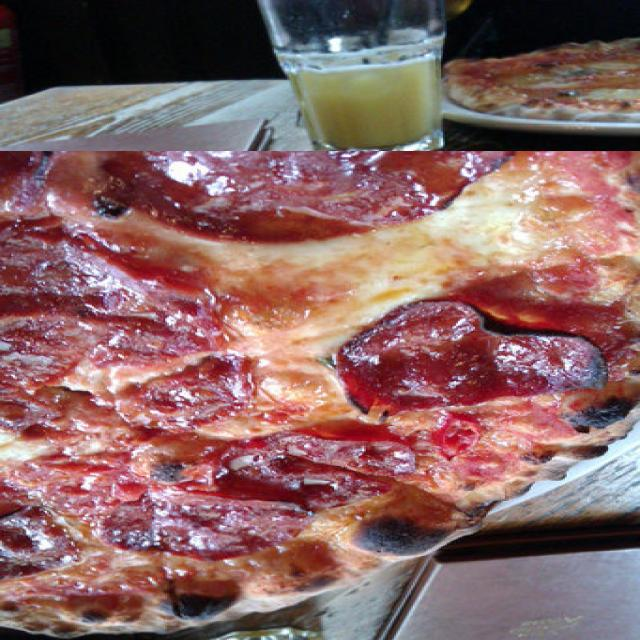pepperoni: (118, 546, 542, 640), (422, 422, 640, 564), (33, 378, 310, 488), (224, 285, 422, 358), (331, 229, 539, 298), (567, 209, 640, 306)
pizza: (0, 151, 640, 640), (443, 36, 640, 126)
